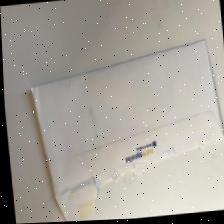paper: (25, 14, 224, 219)
